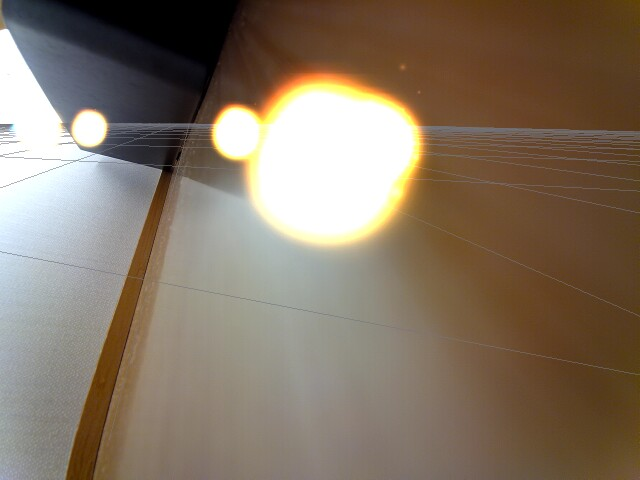firebig: (252, 53, 423, 265)
